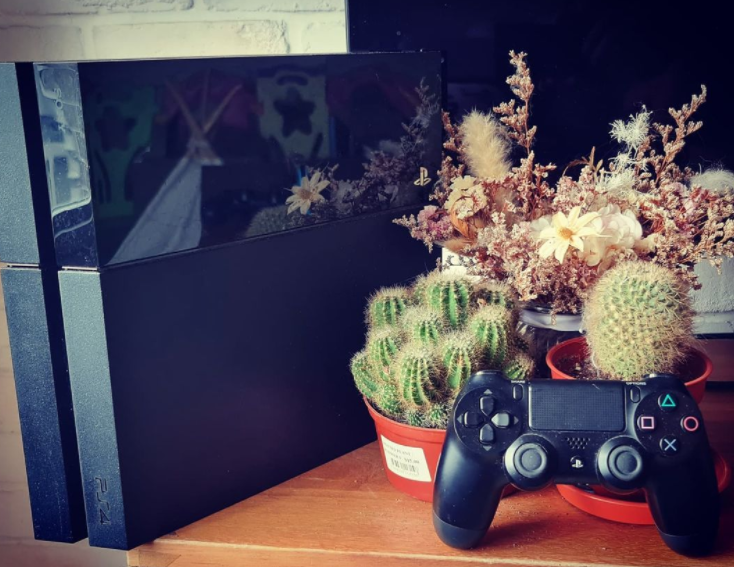gamingconsole: (431, 371, 724, 557)
